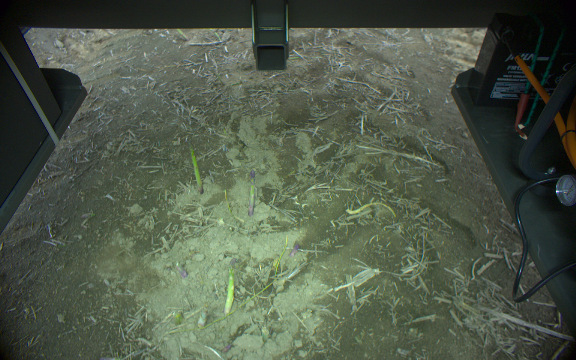aspa: (224, 257, 238, 317), (187, 141, 203, 191), (247, 169, 256, 216), (175, 261, 188, 280)
